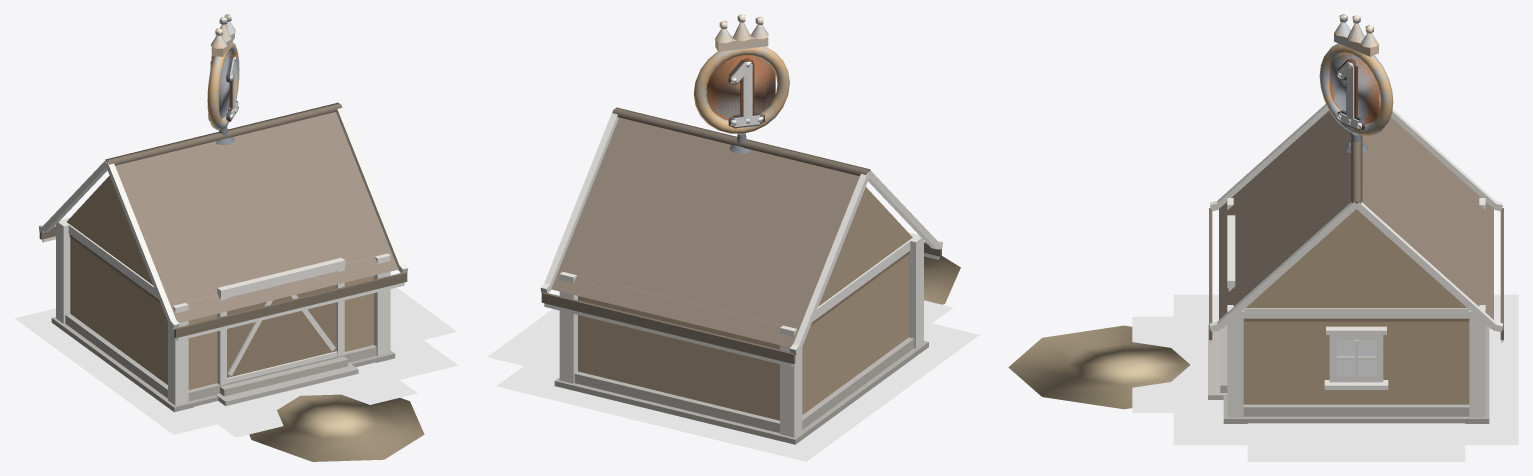
File: barn_1.glb
3 renders of one model, left to right at view 1: azimuth 30°, elevation 25°; view 2: azimuth 150°, elevation 25°; view 3: azimuth 270°, elevation 25°, orthographic. The views are drawn at different scales.
Parts seen in each view (by area): view 1: body2, barn_1, spin_60_0, body; view 2: body2, barn_1, spin_60_0, body; view 3: body2, barn_1, spin_60_0, body.
Boxes of the visible parts, box(x1,y1,x2,y2) form: body2: box(38, 102, 424, 461); barn_1: box(15, 287, 457, 437); spin_60_0: box(207, 14, 238, 129); body: box(208, 14, 239, 130); body2: box(540, 107, 960, 444); barn_1: box(487, 300, 979, 461); spin_60_0: box(693, 14, 789, 133); body: box(696, 16, 789, 133); body2: box(1008, 97, 1503, 423); barn_1: box(1132, 294, 1518, 461); spin_60_0: box(1320, 14, 1393, 136); body: box(1319, 14, 1391, 135).
Size of the model in its own units: 2.89 by 2.85 by 3.71.
